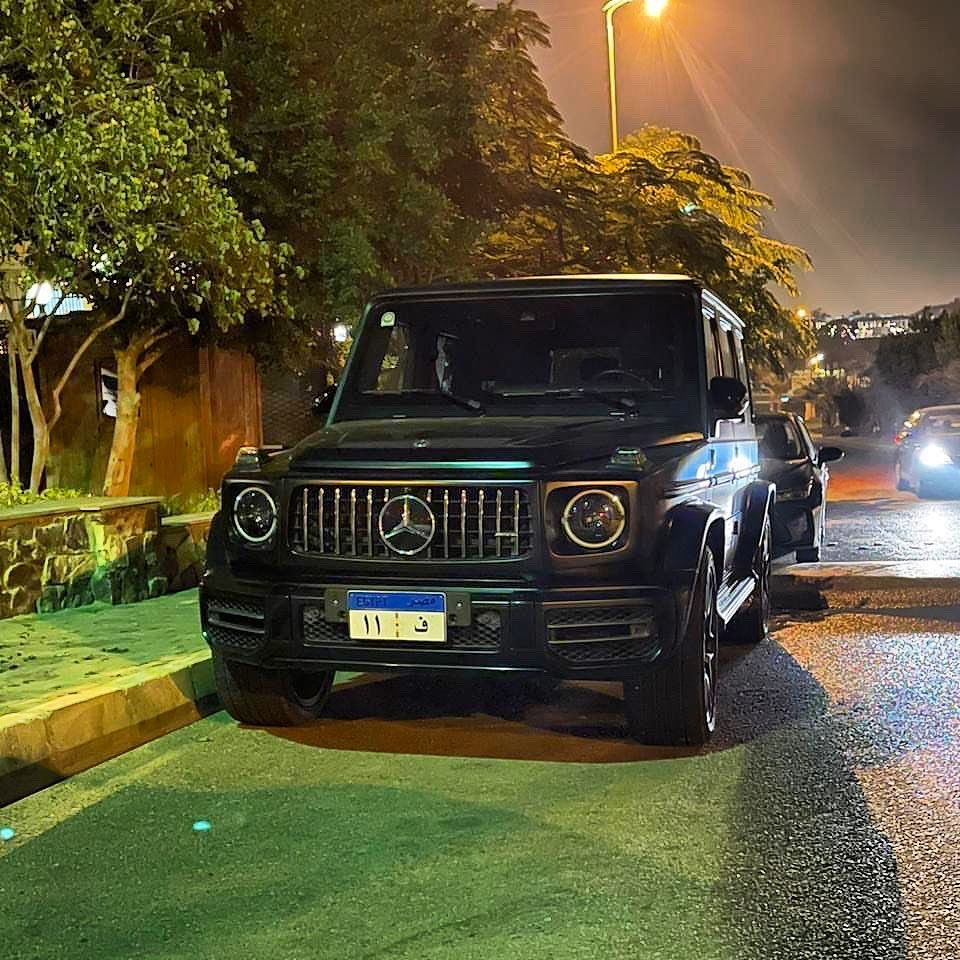carpl: (337, 587, 450, 645)
